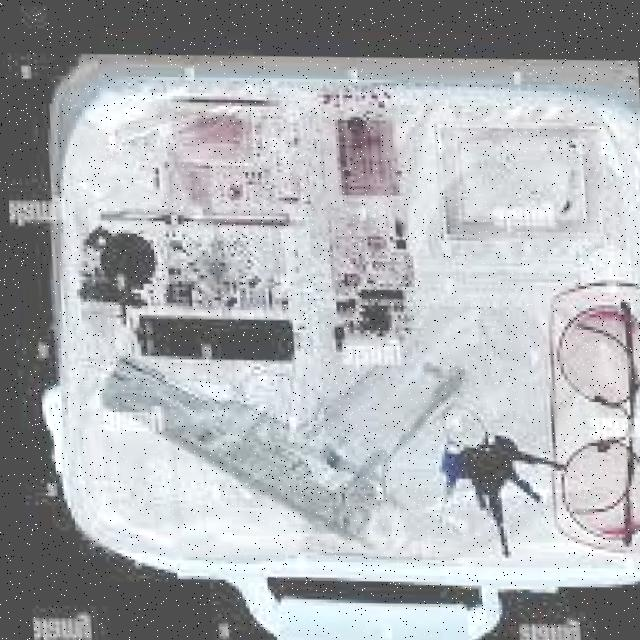pistol: (90, 335, 471, 552)
